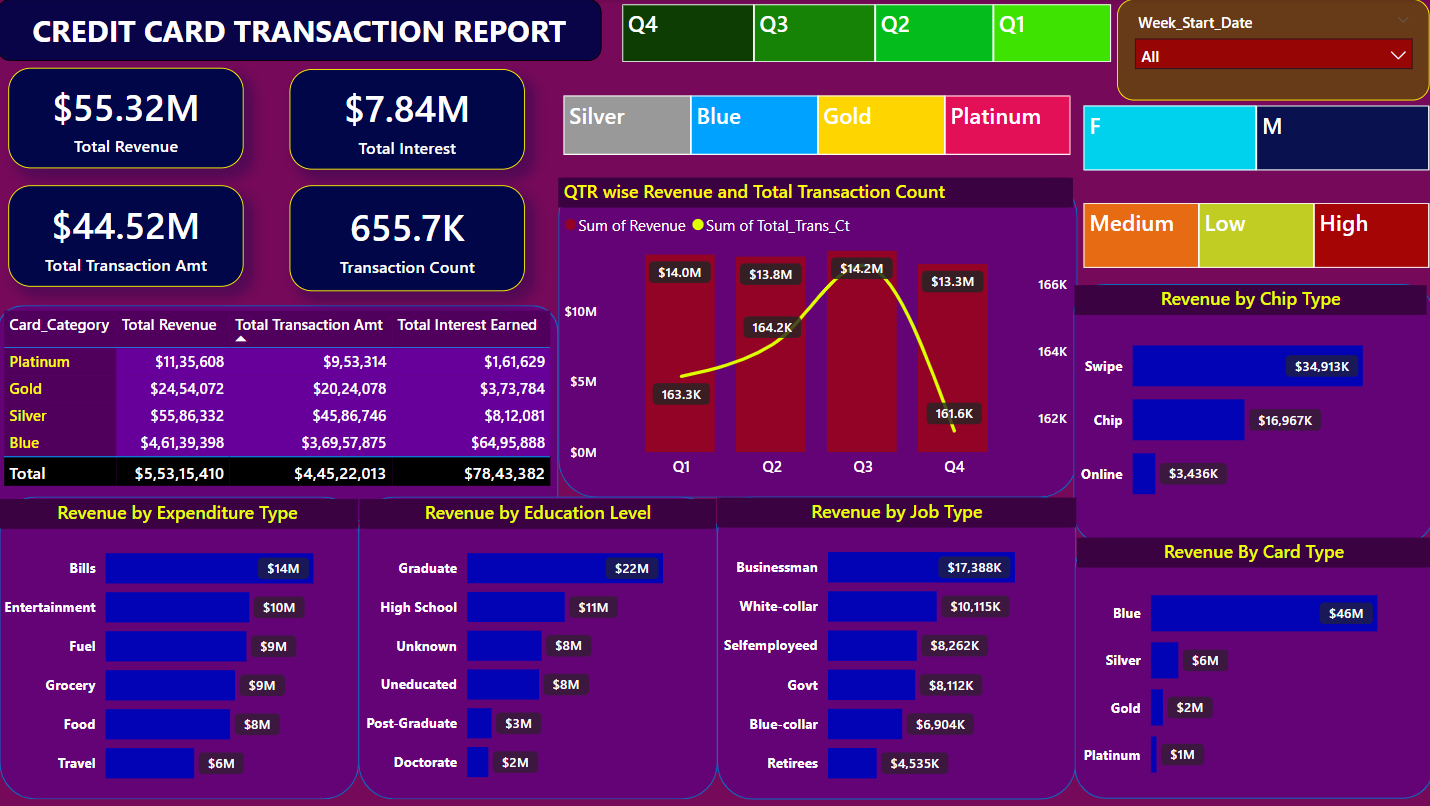

What the dashboard file says about the page in this screenshot:
{"tool":"powerbi","page":{"name":"Credit Card Transaction","canvas":[1280,720],"ordinal":0},"visuals":[{"type":"shape","box":[0,272.5,500,192.5],"z":0},{"type":"shape","box":[500,158.8,462.5,285],"z":1000},{"type":"shape","box":[958.3,254,321.5,231.9],"z":2000},{"type":"shape","box":[321.6,443,320.2,269.9],"z":3000},{"type":"shape","box":[2.5,443,320.2,269.9],"z":4000},{"type":"shape","box":[640.7,442.9,320,270],"z":5000},{"type":"shape","box":[960,480,320,232.5],"z":6000},{"type":"textbox","box":[0,0,538.8,55],"z":7000},{"type":"lineStackedColumnComboChart","title":"QTR wise Revenue and Total Transaction Count","fields":{"Category":["Credit_Card.Qtr"],"Y":["Sum(Credit_Card.Revenue)"],"Y2":["Sum(Credit_Card.Total_Trans_Vol)"]},"box":[500,158.8,458.8,276.2],"z":8000},{"type":"clusteredBarChart","title":"Revenue by Expenditure Type","fields":{"Y":["Sum(Credit_Card.Revenue)"],"Category":["Credit_Card.Exp_Type"]},"box":[0,445.4,321.5,268.7],"z":9000},{"type":"clusteredBarChart","title":"Revenue by Education Level","fields":{"Y":["Sum(Credit_Card.Revenue)"],"Category":["Customer_Details.Education_Level"]},"box":[322.7,445.4,317.8,267.5],"z":10000},{"type":"clusteredBarChart","title":"Revenue By Card Type","fields":{"Category":["Credit_Card.Card_Category"],"Y":["Sum(Credit_Card.Revenue)"]},"box":[961.2,480,315,232.5],"z":11000},{"type":"clusteredBarChart","title":"Revenue by Job Type","fields":{"Y":["Sum(Credit_Card.Revenue)"],"Category":["Customer_Details.Customer_Job"]},"box":[641.7,444.2,320.2,269.9],"z":12000},{"type":"clusteredBarChart","title":"Revenue by Chip Type","fields":{"Category":["Credit_Card.Use_Chip"],"Y":["Sum(Credit_Card.Revenue)"]},"box":[960,255,313.8,212.5],"z":13000},{"type":"tableEx","fields":{"Values":["Credit_Card.Card_Category","Sum(Credit_Card.Revenue)","Sum(Credit_Card.Total_Trans_Amt)","Sum(Credit_Card.Interest_Earned)"]},"box":[0,272.5,500,172.5],"z":14000},{"type":"card","fields":{"Values":["Sum(Credit_Card.Revenue)"]},"box":[9.8,61.4,209.8,89.6],"z":15000},{"type":"card","fields":{"Values":["Sum(Credit_Card.Interest_Earned)"]},"box":[260.1,62.6,209.8,89.6],"z":16000},{"type":"card","fields":{"Values":["Sum(Credit_Card.Total_Trans_Amt)"]},"box":[9.8,165.6,209.8,90.8],"z":17000},{"type":"card","fields":{"Values":["Sum(Credit_Card.Total_Trans_Ct)"]},"box":[260.1,165.6,209.8,94.5],"z":18000},{"type":"slicer","fields":{"Values":["Credit_Card.Week_Start_Date"]},"box":[997.5,0,278.8,90],"z":19000},{"type":"treemap","fields":{"Group":["Credit_Card.Qtr"],"Values":["Avg(Credit_Card.Client_Num)"]},"box":[552.5,0,445,61.2],"z":20000},{"type":"treemap","fields":{"Values":["Avg(Credit_Card.Client_Num)"],"Group":["Credit_Card.Card_Category"]},"box":[500,81.2,461.2,62.5],"z":21000},{"type":"treemap","fields":{"Values":["Avg(Credit_Card.Client_Num)"],"Group":["Customer_Details.Gender"]},"box":[962.5,90,317.5,67.5],"z":22000},{"type":"treemap","fields":{"Values":["Avg(Credit_Card.Client_Num)"],"Group":["Customer_Details.Income_Group"]},"box":[962.5,177.5,317.5,67.5],"z":23000}]}

Visuals, with their boxes in screenshot pixels (x1, y1, x2, y2), scaled from the page's 1280x720 canvas onto the 1430x806 screenshot:
shape: (left=0, top=305, right=559, bottom=521)
shape: (left=559, top=178, right=1075, bottom=497)
shape: (left=1071, top=284, right=1429, bottom=544)
shape: (left=359, top=496, right=717, bottom=798)
shape: (left=3, top=496, right=361, bottom=798)
shape: (left=716, top=496, right=1073, bottom=798)
shape: (left=1072, top=537, right=1429, bottom=798)
textbox: (left=0, top=0, right=602, bottom=62)
"QTR wise Revenue and Total Transaction Count" lineStackedColumnComboChart: (left=559, top=178, right=1071, bottom=487)
"Revenue by Expenditure Type" clusteredBarChart: (left=0, top=499, right=359, bottom=799)
"Revenue by Education Level" clusteredBarChart: (left=361, top=499, right=716, bottom=798)
"Revenue By Card Type" clusteredBarChart: (left=1074, top=537, right=1426, bottom=798)
"Revenue by Job Type" clusteredBarChart: (left=717, top=497, right=1075, bottom=799)
"Revenue by Chip Type" clusteredBarChart: (left=1072, top=285, right=1423, bottom=523)
tableEx - Credit_Card.Card_Category x Sum(Credit_Card.Revenue): (left=0, top=305, right=559, bottom=498)
card - Sum(Credit_Card.Revenue): (left=11, top=69, right=245, bottom=169)
card - Sum(Credit_Card.Interest_Earned): (left=291, top=70, right=525, bottom=170)
card - Sum(Credit_Card.Total_Trans_Amt): (left=11, top=185, right=245, bottom=287)
card - Sum(Credit_Card.Total_Trans_Ct): (left=291, top=185, right=525, bottom=291)
slicer - Credit_Card.Week_Start_Date: (left=1114, top=0, right=1426, bottom=101)
treemap - Credit_Card.Qtr x Avg(Credit_Card.Client_Num): (left=617, top=0, right=1114, bottom=69)
treemap - Avg(Credit_Card.Client_Num) x Credit_Card.Card_Category: (left=559, top=91, right=1074, bottom=161)
treemap - Avg(Credit_Card.Client_Num) x Customer_Details.Gender: (left=1075, top=101, right=1429, bottom=176)
treemap - Avg(Credit_Card.Client_Num) x Customer_Details.Income_Group: (left=1075, top=199, right=1429, bottom=274)
